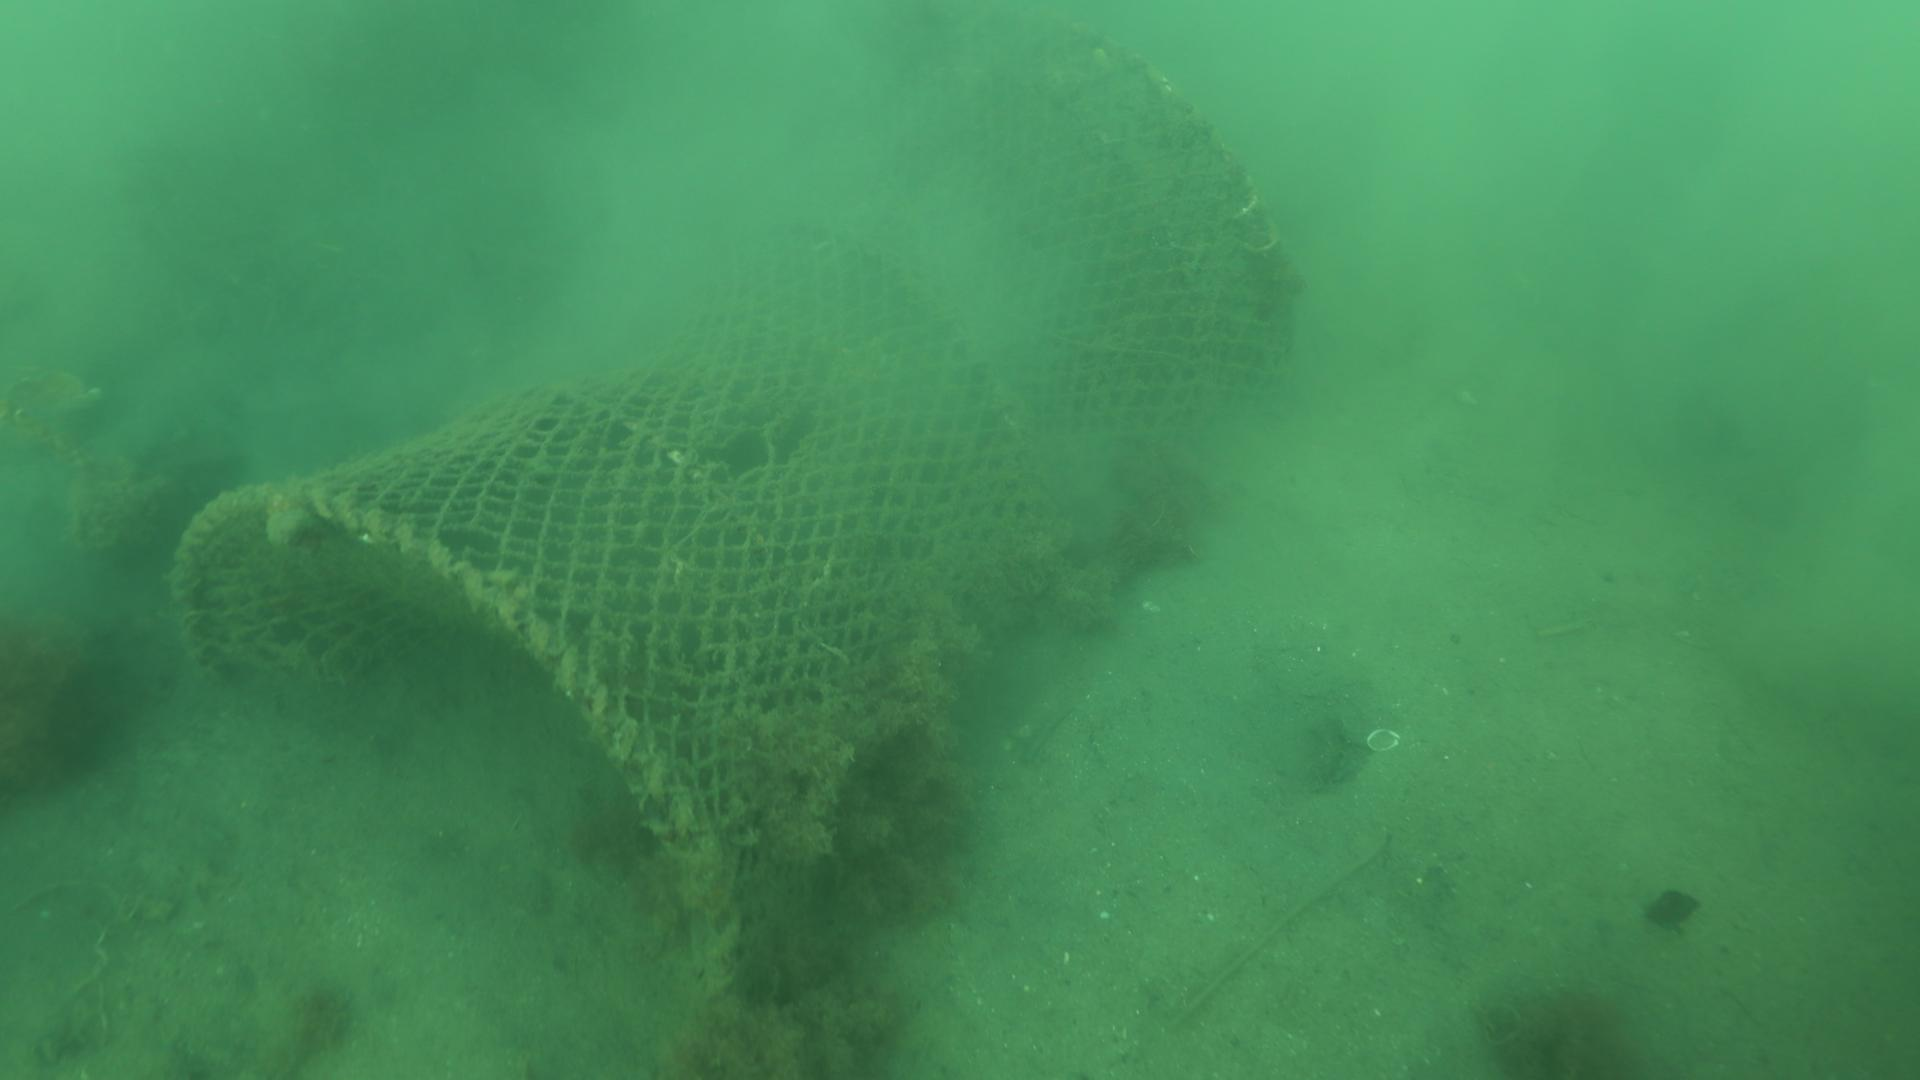spring fish trap: (167, 12, 1299, 994)
